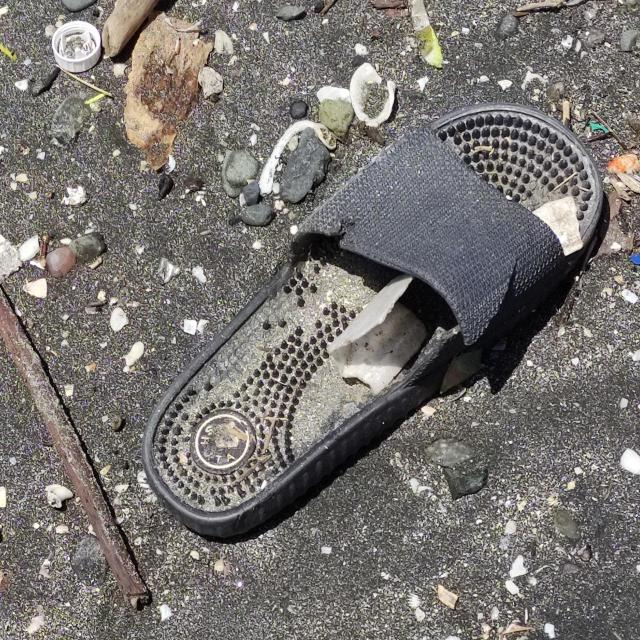litter: (142, 103, 607, 542), (51, 20, 102, 74)
